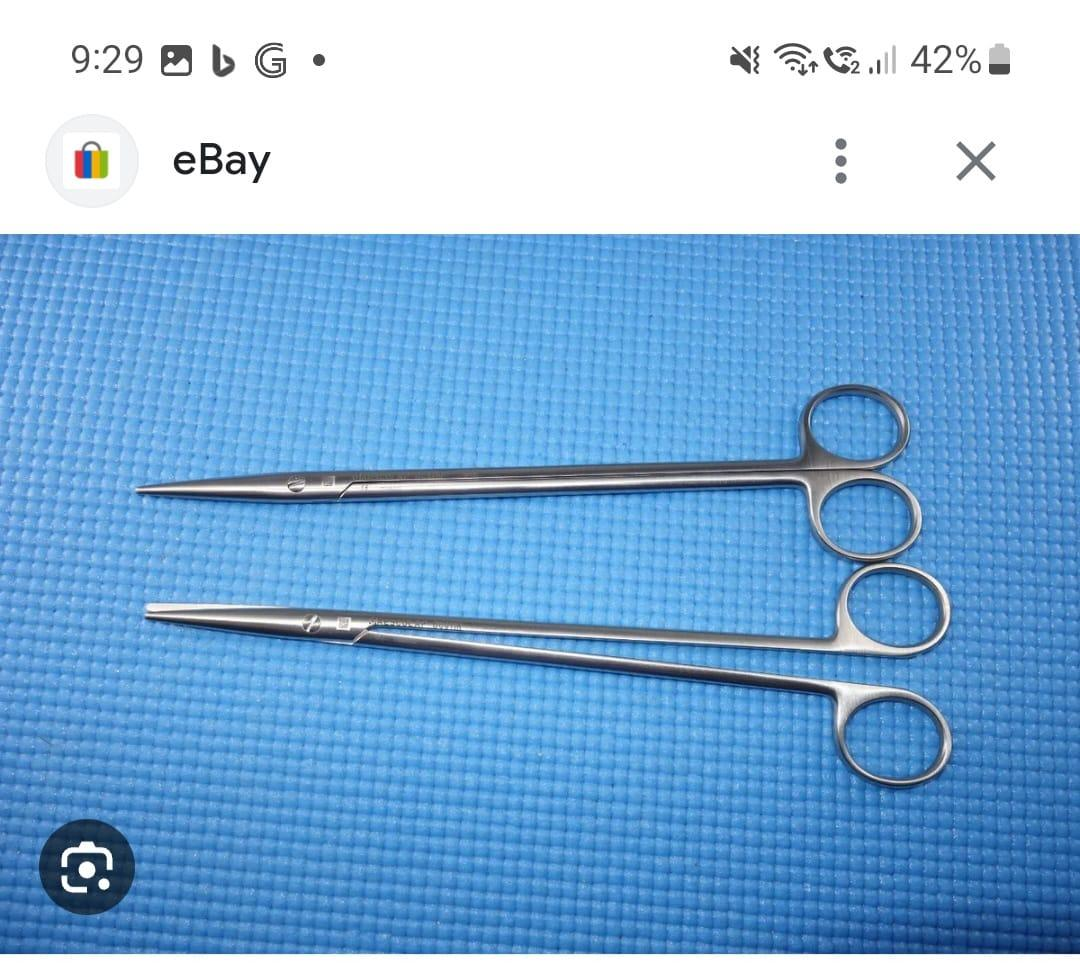Metzenbaum Sciccors: (137, 561, 956, 794), (121, 376, 933, 567)
